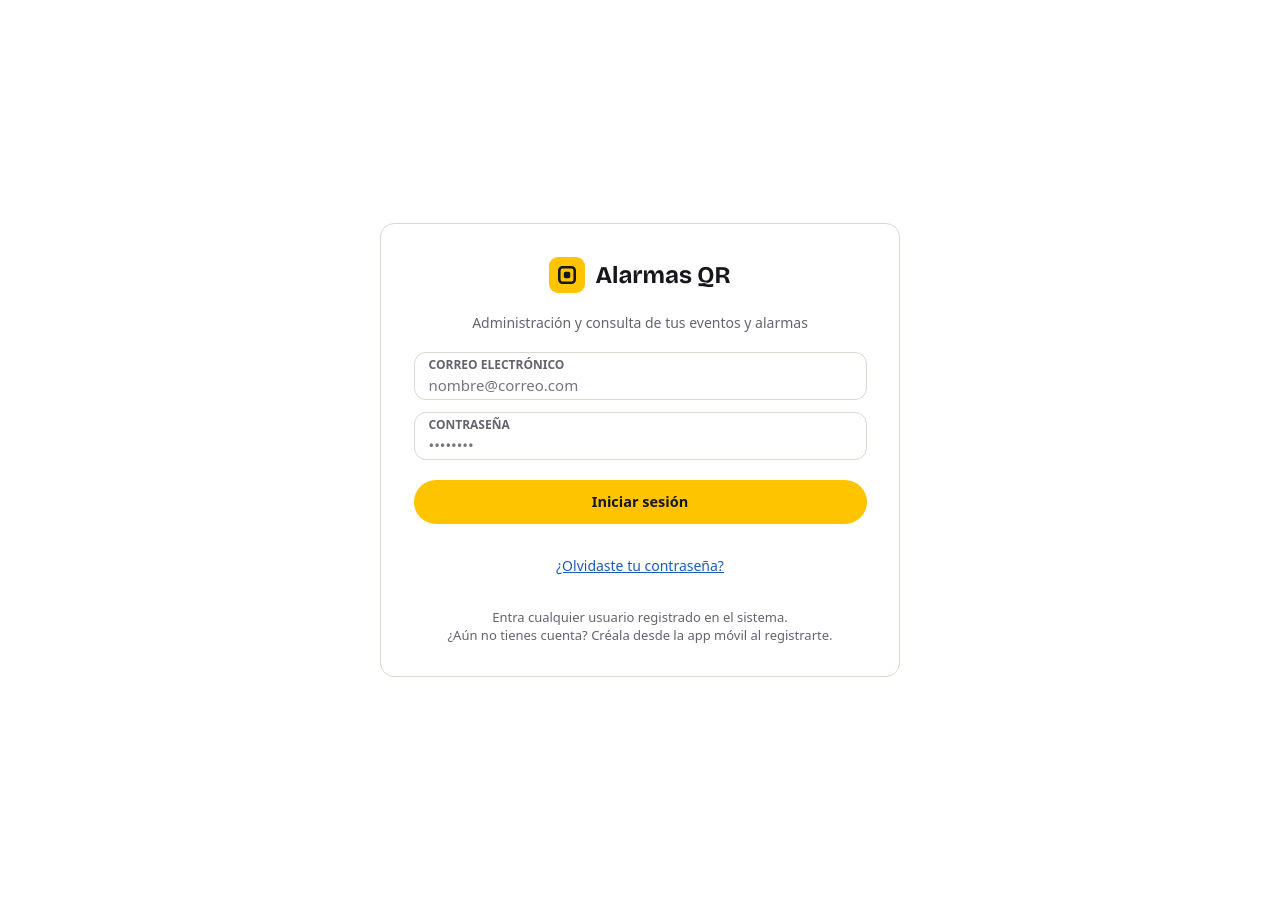
it: W00 · Inicio de sesión › T5 · «Iniciar sesión» inicia la sesión y lleva a Mis Alarmas
The image size is (1280, 900).
Click the submit button at point(640, 502), box x1=414 y1=480 x2=866 y2=524
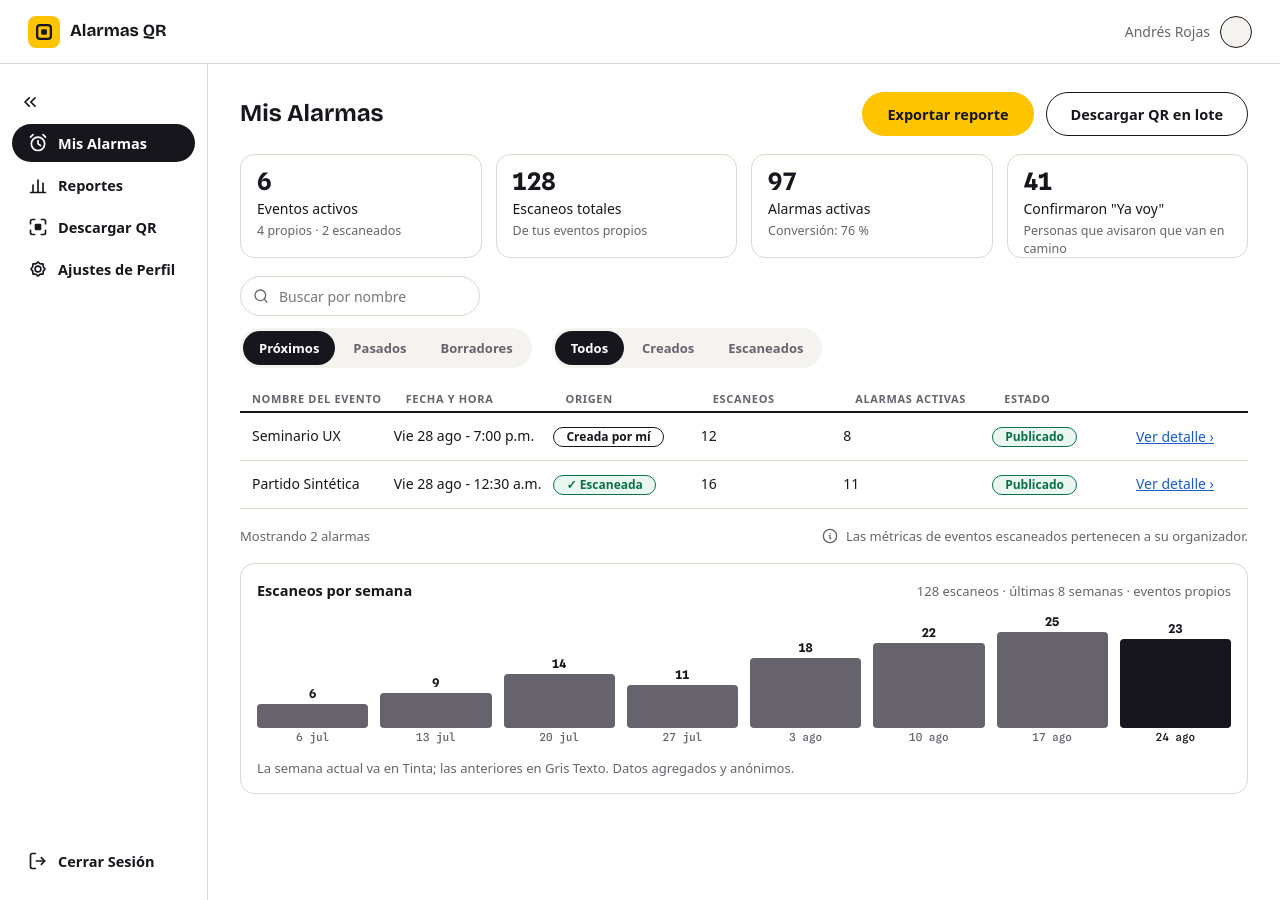
Check: the element that starts with "Mis Alarmas" is shown, box x1=0 y1=64 x2=208 y2=899
